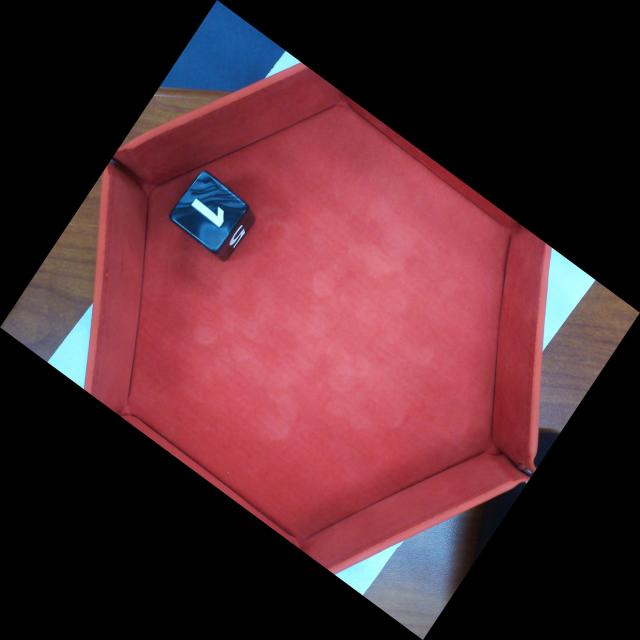dice: (171, 170, 248, 250)
